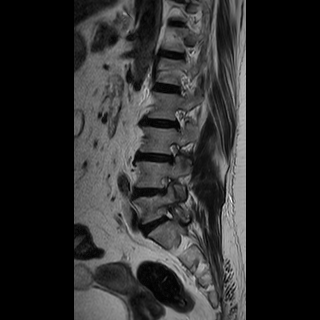LFS0: (167, 104, 189, 136)
LFS1: (161, 136, 183, 168)
LFS3: (155, 173, 177, 205)
